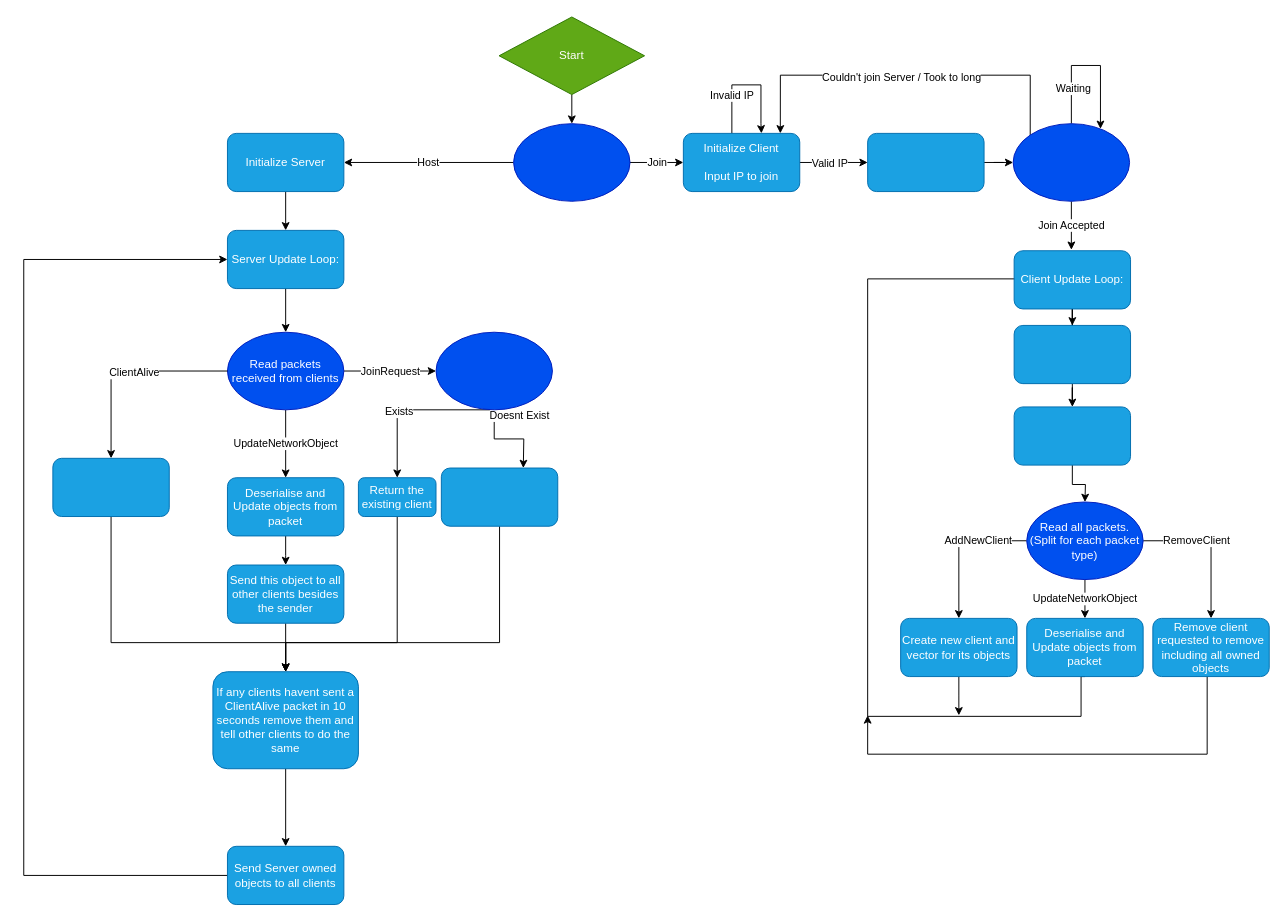
Image size: 1286x922. Some labels were removed from this diagram. Each missing label, with the centre of its shape:
Check if client exists: point (493, 370)
Choose to host or join a game: point (571, 162)
Create new client and send NewClient request to all clients connected: point (499, 496)
Reset disconnect timer on this client: point (110, 487)
Send ClientAlive to Server every 5 seconds: point (1072, 354)
Send Join Request to Server: point (925, 162)
Send owned Objects to Server: point (1072, 435)
While no JoinAccepted: point (1071, 162)
